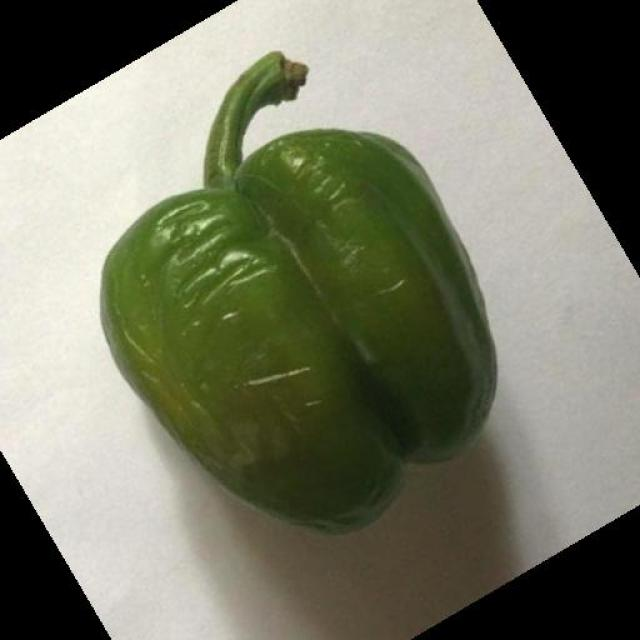Stale_Capsicum: (94, 66, 504, 568)
